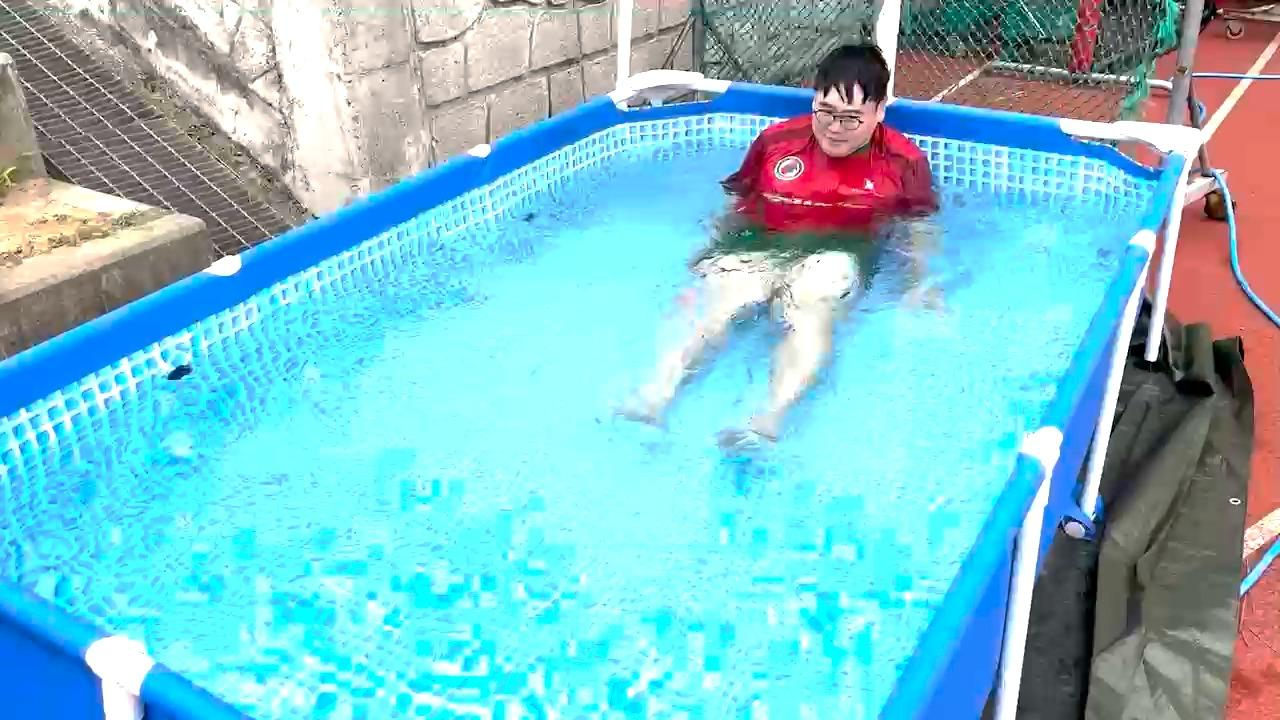Swimming: (590, 12, 964, 484)
